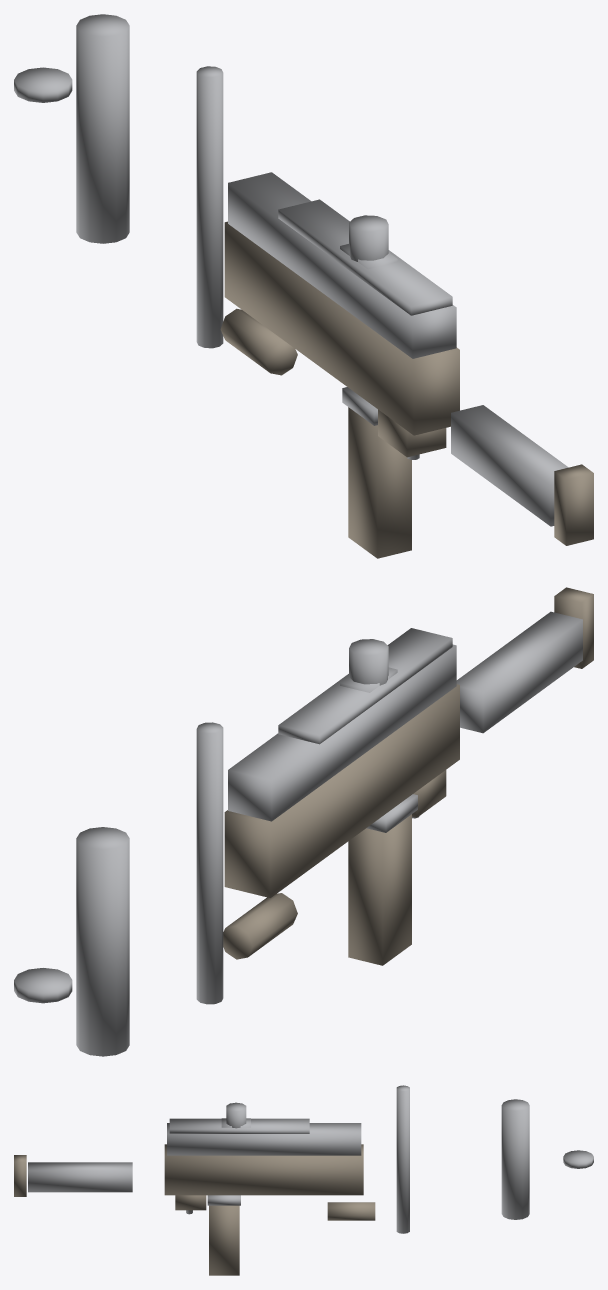
The model's file is smg.glb.
The picture shows the model from 3 angles, top to bottom: view 1: azimuth 30°, elevation 25°; view 2: azimuth 150°, elevation 25°; view 3: azimuth 270°, elevation 25°; orthographic projection. The views are drawn at different scales.
Visible parts, largest first — view 1: metal, poly; view 2: metal, poly; view 3: metal, poly.
Boxes of the visible parts, bbox=[...] form: metal: bbox=[14, 14, 568, 526]; poly: bbox=[220, 221, 593, 558]; metal: bbox=[14, 611, 582, 1056]; poly: bbox=[223, 587, 593, 965]; metal: bbox=[28, 1085, 593, 1233]; poly: bbox=[14, 1144, 375, 1275].
Bounding box in the file's own units: 0.044 × 0.2885 × 0.83.
